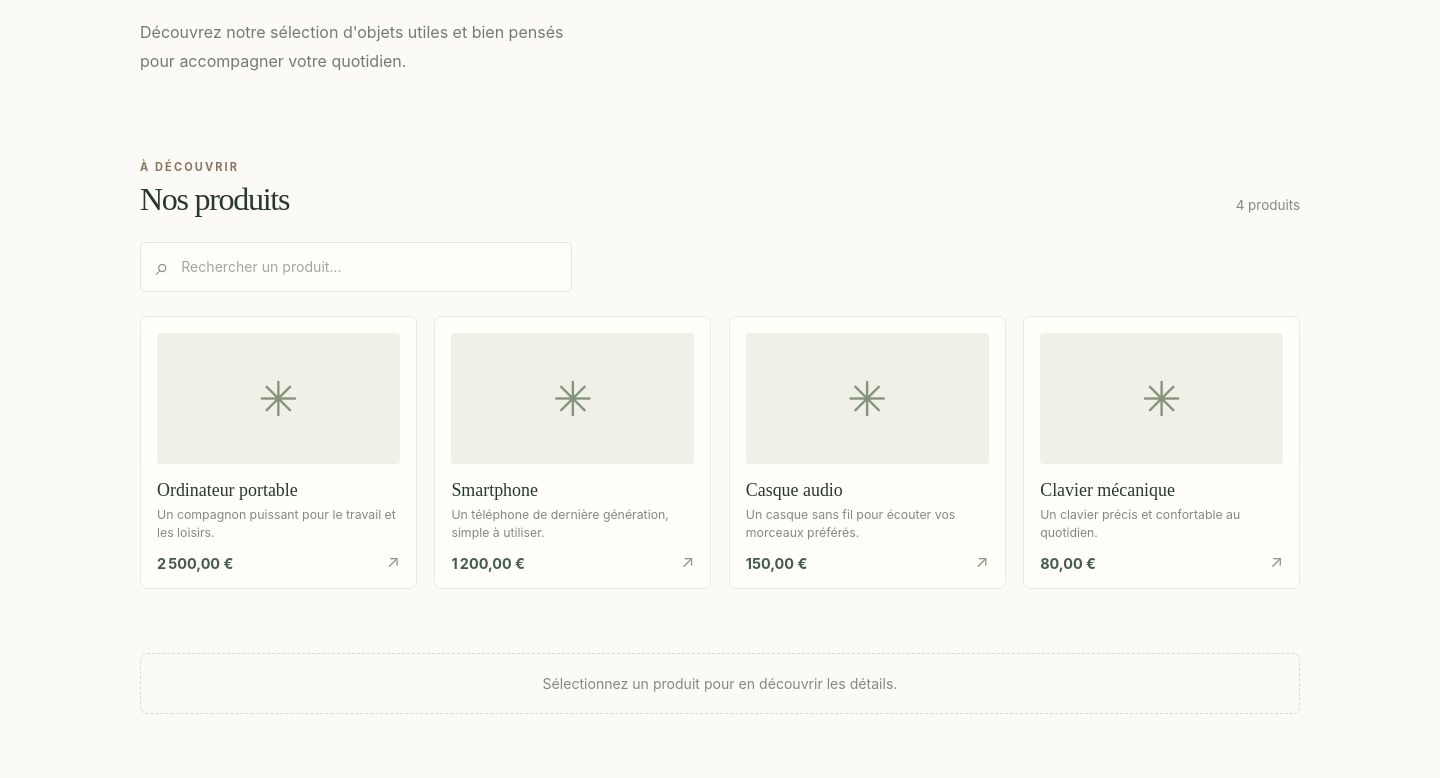
ProductListComponent › shows product details after a product is selected
(page scrolled)
What coordinates should you click on to do the following:
click the button that starts with "Ordinateur portable"
I would click on:
 (278, 452)
Its box is x1=140 y1=316 x2=417 y2=589.
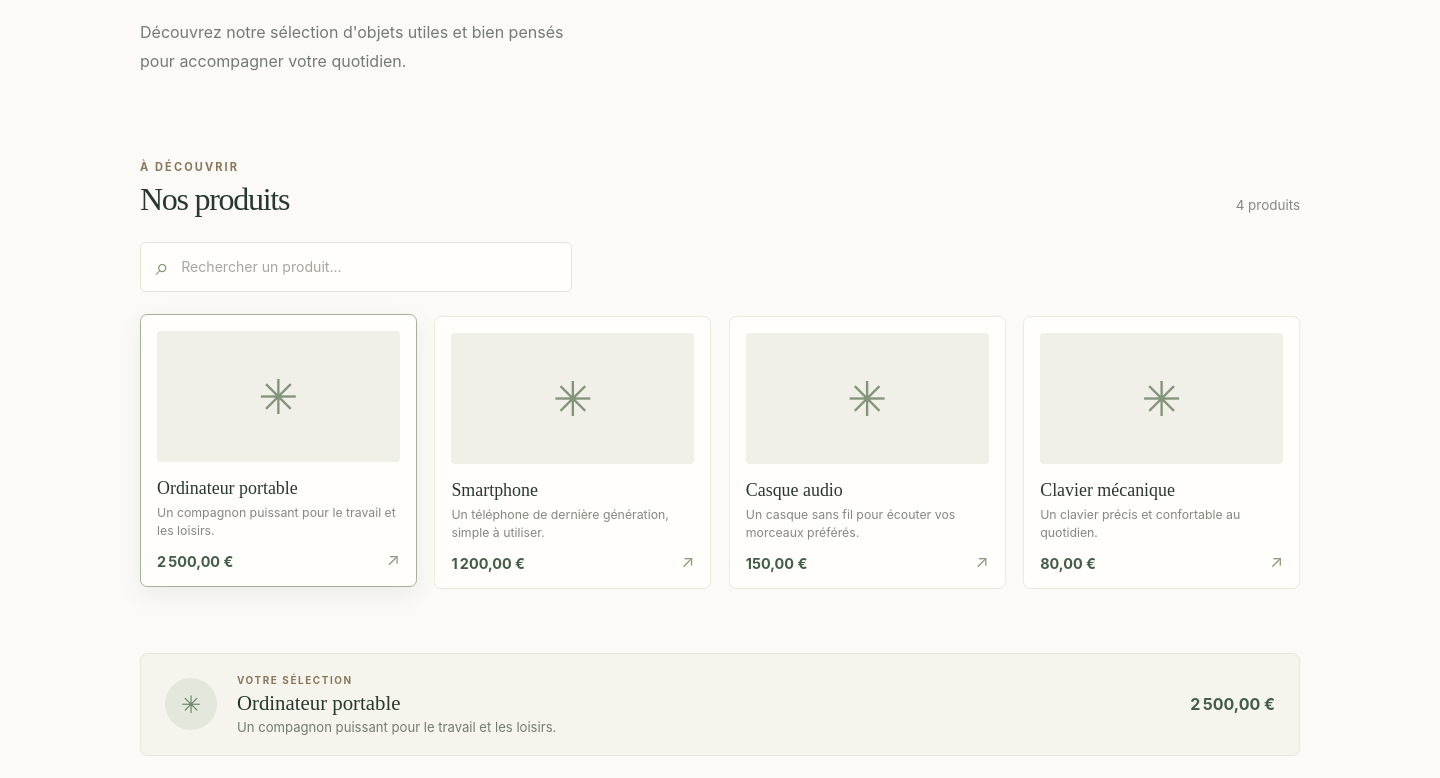
Result: the element that starts with "VOTRE SÉLECTION" shows "Ordinateur portable" at x1=237 y1=691 x2=400 y2=714
